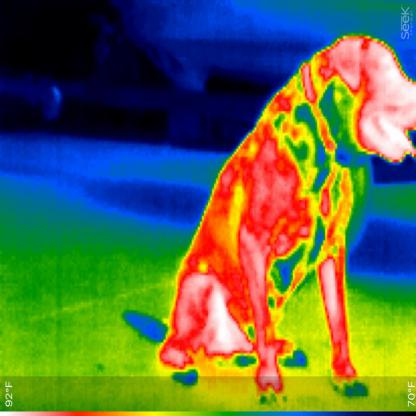dog: (156, 31, 415, 396)
